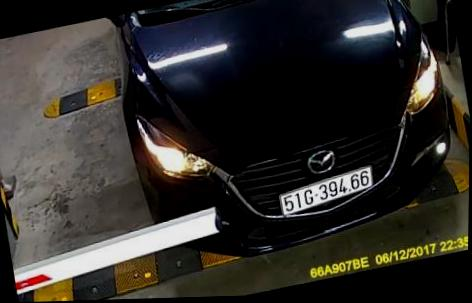License_Plate: (276, 161, 379, 219)
